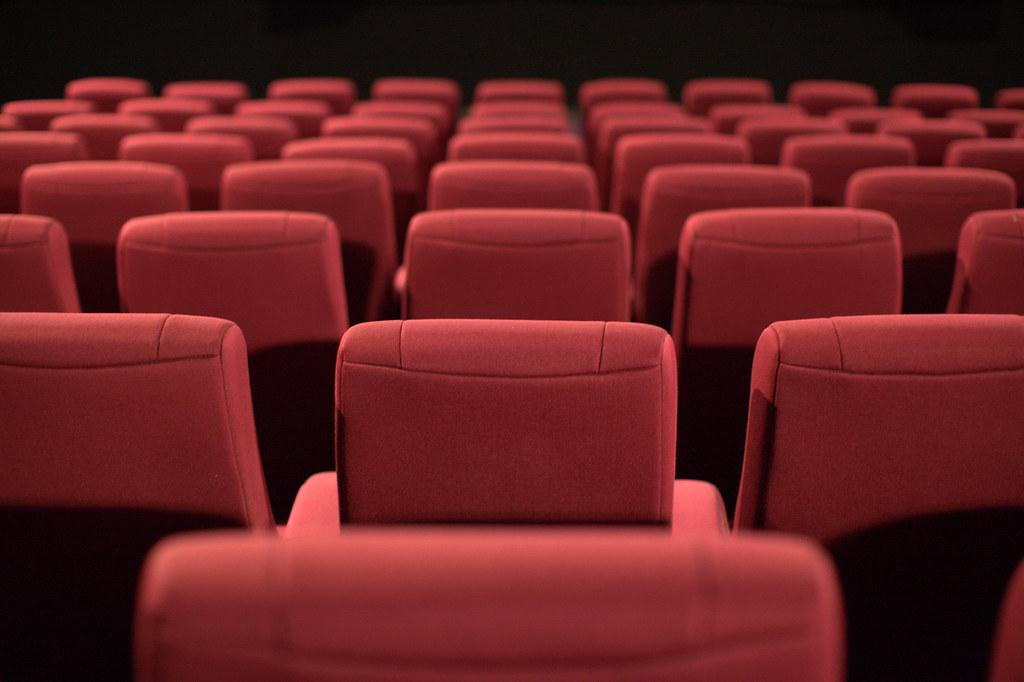chair: (133, 530, 847, 682), (1, 311, 278, 682), (284, 319, 731, 539), (115, 209, 351, 513), (733, 313, 1024, 545), (671, 207, 904, 360), (115, 209, 351, 353), (219, 158, 399, 323), (634, 164, 814, 324), (396, 209, 633, 322), (19, 160, 190, 311), (844, 166, 1018, 312), (610, 132, 754, 219), (117, 132, 256, 210), (780, 133, 918, 206), (280, 136, 425, 202), (427, 160, 601, 211), (946, 208, 1024, 315), (1, 213, 82, 313), (1, 131, 90, 213), (320, 115, 443, 162), (736, 116, 848, 165), (944, 138, 1024, 206), (878, 117, 988, 166), (49, 112, 161, 160), (184, 114, 299, 160), (447, 132, 588, 162), (234, 98, 334, 137), (586, 101, 687, 139), (457, 101, 572, 134), (350, 99, 454, 135), (117, 97, 217, 132), (682, 78, 775, 114), (266, 78, 358, 113), (708, 103, 810, 134), (787, 80, 878, 114), (2, 99, 98, 131), (578, 78, 670, 110), (890, 84, 981, 116), (65, 77, 154, 109), (162, 81, 251, 112), (827, 106, 925, 134), (371, 77, 462, 105), (946, 108, 1024, 138), (474, 79, 566, 102), (995, 88, 1024, 109)
